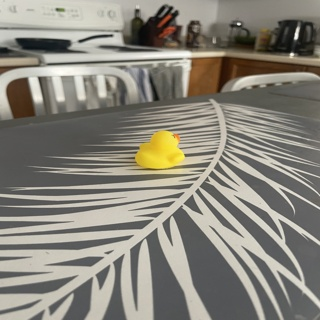duck_regular: (131, 129, 184, 166)
